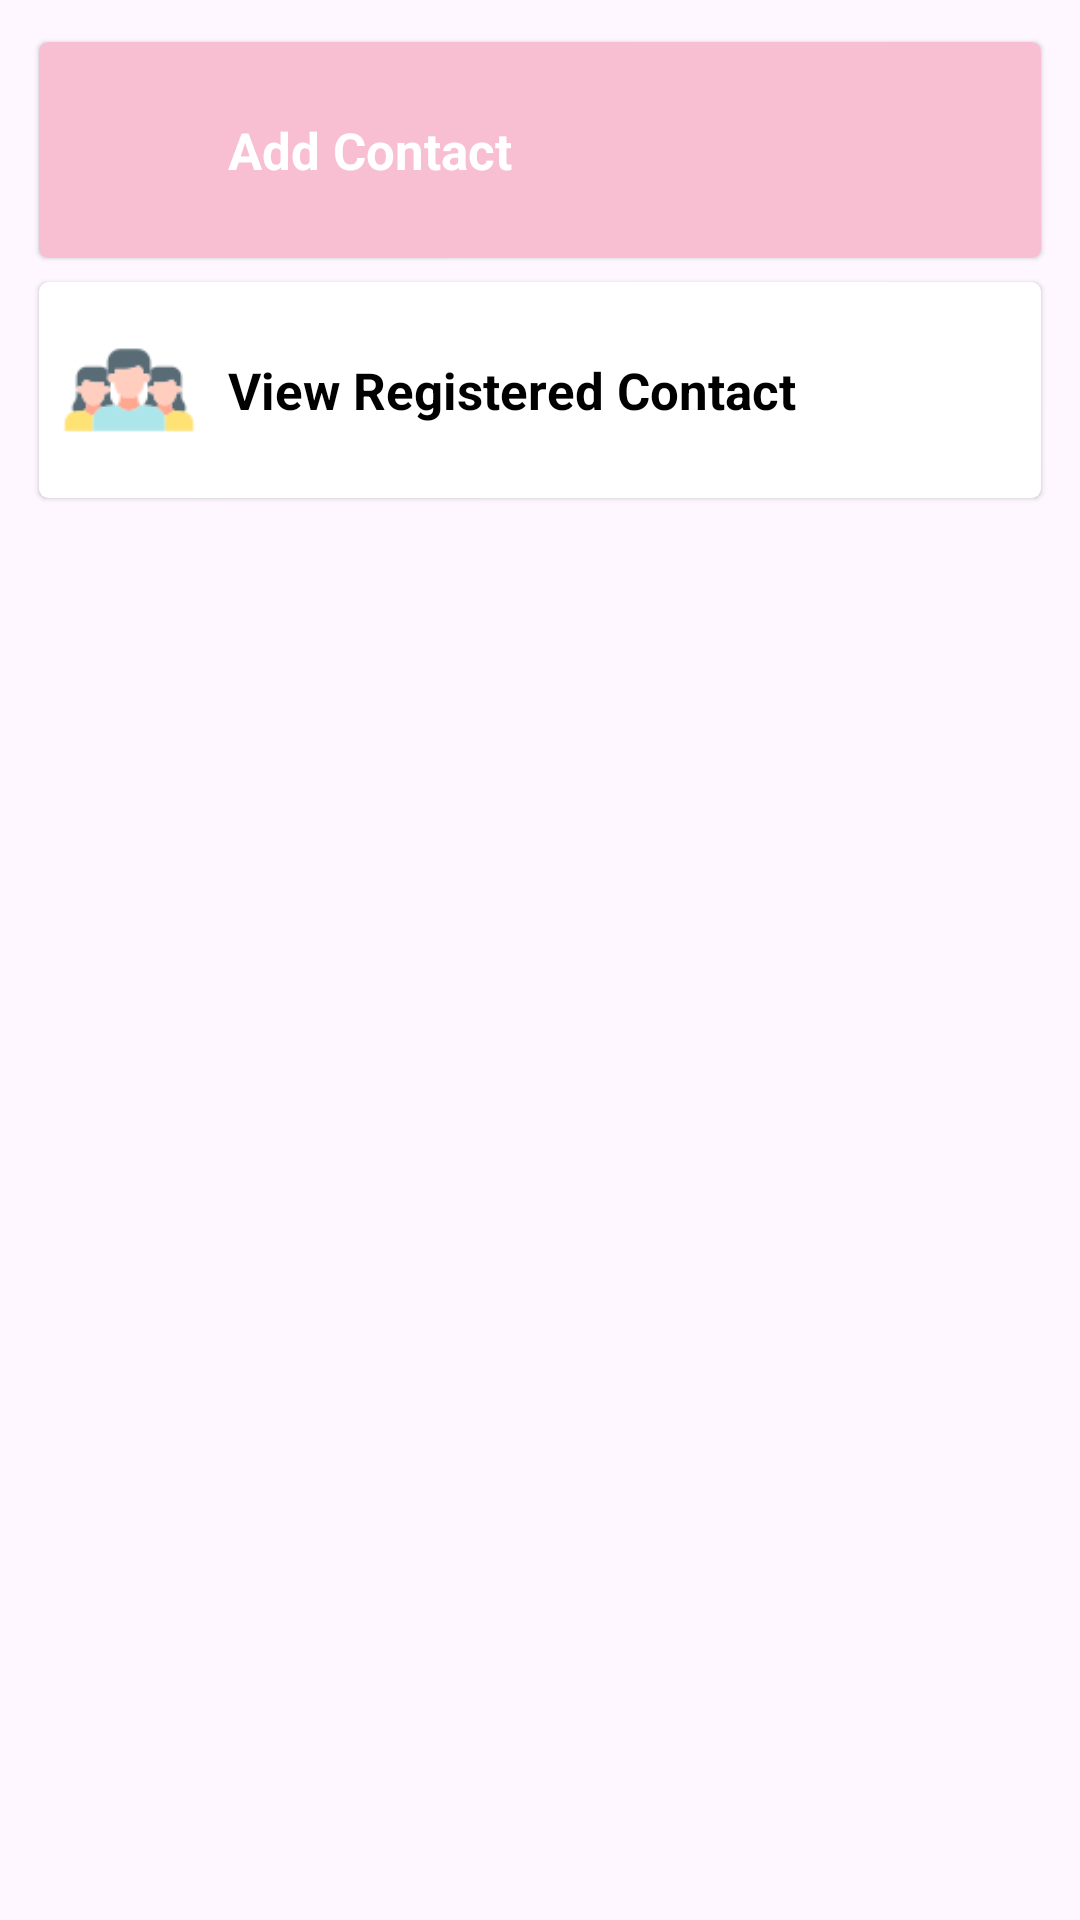

Named icons in this screenshot (1080px×1920px) and their centers, [x,y]:
people: [129,390]
